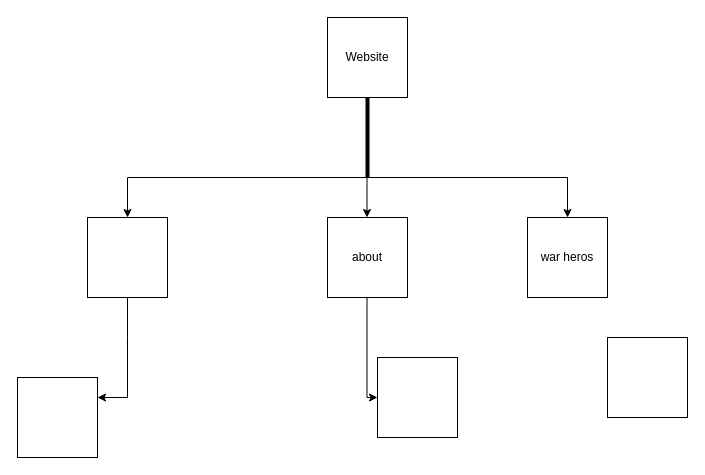
Image size: 705x475. Some labels were removed from this diagram. Each missing label, with the box of its shape:
brief summary: (376, 356, 458, 438)
Major battles: (86, 216, 168, 298)
